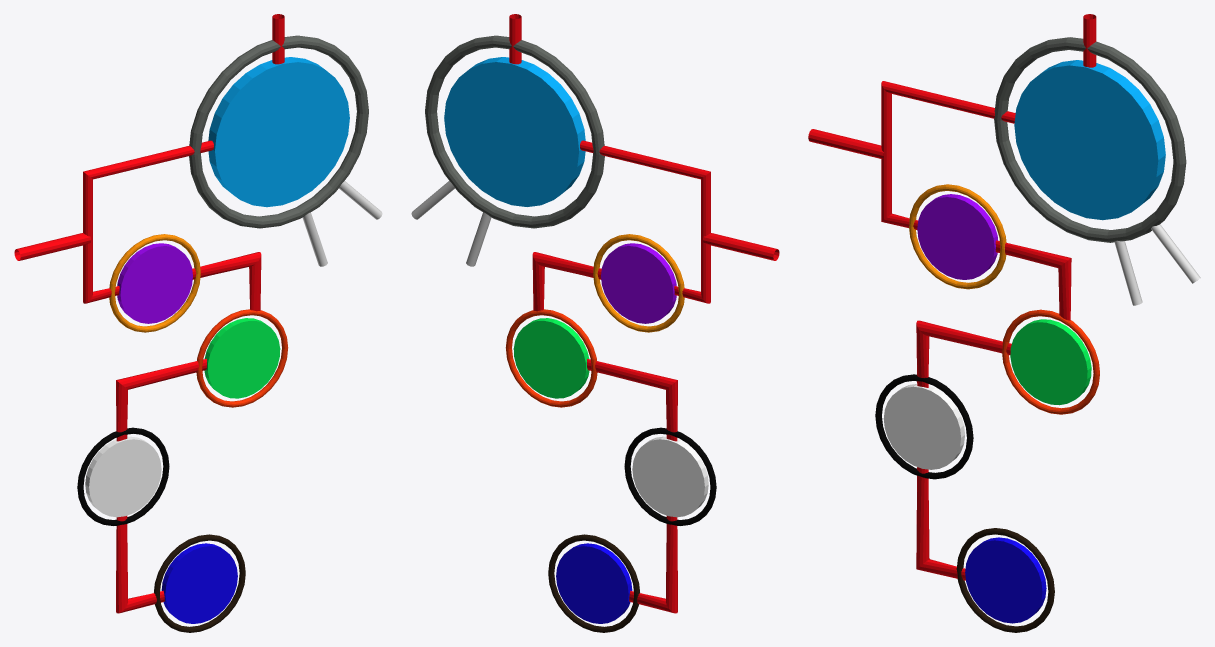
File: 2 vite.FBX
3 views of the same model, side by side, from view 1: azimuth 30°, elevation 25°; view 2: azimuth 150°, elevation 25°; view 3: azimuth 330°, elevation 25° (orthographic). The views are drawn at different scales.
Parts seen in each view (by area): view 1: Cerchio Vita, Struttura, Object001, PowerUp_01, PowerUp_03, PowerUp_04, PowerUp_02, Anello_04, Anello_02, Anello_01, Anello_03, Cylinder001; view 2: Cerchio Vita, Struttura, Object001, PowerUp_01, PowerUp_03, PowerUp_04, PowerUp_02, Anello_04, Anello_02, Anello_01, Anello_03, Cylinder001; view 3: Cerchio Vita, Struttura, Object001, PowerUp_02, PowerUp_04, PowerUp_03, PowerUp_01, Anello_04, Anello_01, Anello_02, Anello_03, Cylinder001.
Boxes of the visible parts, <box> form: Cerchio Vita: <box>208,57,349,207</box>; Struttura: <box>14,14,284,613</box>; Object001: <box>189,35,368,228</box>; PowerUp_01: <box>117,243,192,323</box>; PowerUp_03: <box>85,436,161,517</box>; PowerUp_04: <box>161,543,237,623</box>; PowerUp_02: <box>204,318,280,398</box>; Anello_04: <box>154,534,245,632</box>; Anello_02: <box>196,309,288,407</box>; Anello_01: <box>109,234,200,332</box>; Anello_03: <box>77,427,169,525</box>; Cylinder001: <box>302,181,382,266</box>; Cerchio Vita: <box>444,57,585,206</box>; Struttura: <box>509,14,779,613</box>; Object001: <box>425,35,604,228</box>; PowerUp_01: <box>601,243,676,323</box>; PowerUp_03: <box>632,436,708,517</box>; PowerUp_04: <box>556,543,632,623</box>; PowerUp_02: <box>513,318,589,398</box>; Anello_04: <box>548,534,639,632</box>; Anello_02: <box>505,309,597,407</box>; Anello_01: <box>593,234,684,332</box>; Anello_03: <box>624,427,716,525</box>; Cylinder001: <box>411,181,491,266</box>; Cerchio Vita: <box>1014,60,1165,220</box>; Struttura: <box>808,14,1096,580</box>; Object001: <box>994,37,1186,242</box>; PowerUp_02: <box>1010,319,1091,405</box>; PowerUp_04: <box>965,537,1046,623</box>; PowerUp_03: <box>883,384,964,469</box>; PowerUp_01: <box>917,194,998,279</box>; Anello_04: <box>956,528,1054,632</box>; Anello_01: <box>909,184,1006,289</box>; Anello_02: <box>1002,309,1099,414</box>; Anello_03: <box>875,374,973,479</box>; Cylinder001: <box>1114,224,1200,305</box>.
Bounding box in the file's own units: 130 × 203 × 4.37.
